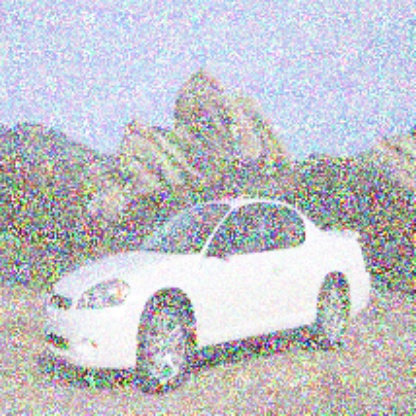Vehicle: (44, 196, 374, 398)
